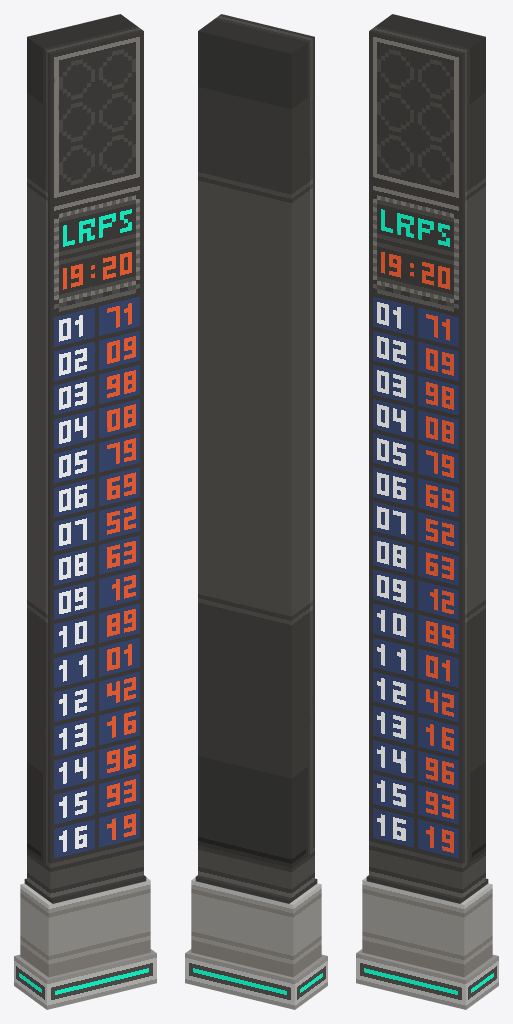
File: 计时器1.gltf
The picture shows the model from 3 angles, left to right: view 1: azimuth 30°, elevation 25°; view 2: azimuth 150°, elevation 25°; view 3: azimuth 330°, elevation 25°; orthographic projection.
Visible parts, largest first — view 1: Group; view 2: Group; view 3: Group.
Part boxes in pixels (x1=…): Group: x1=14, y1=14, x2=156, y2=1009; Group: x1=185, y1=14, x2=327, y2=1009; Group: x1=356, y1=14, x2=498, y2=1009.
Size of the model in its own units: 27 by 223 by 14.
1 material, 1 textured.
